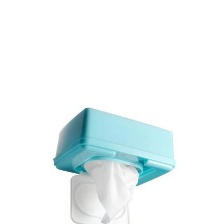plastic_box: (46, 103, 181, 223)
tissue: (79, 155, 141, 224)
